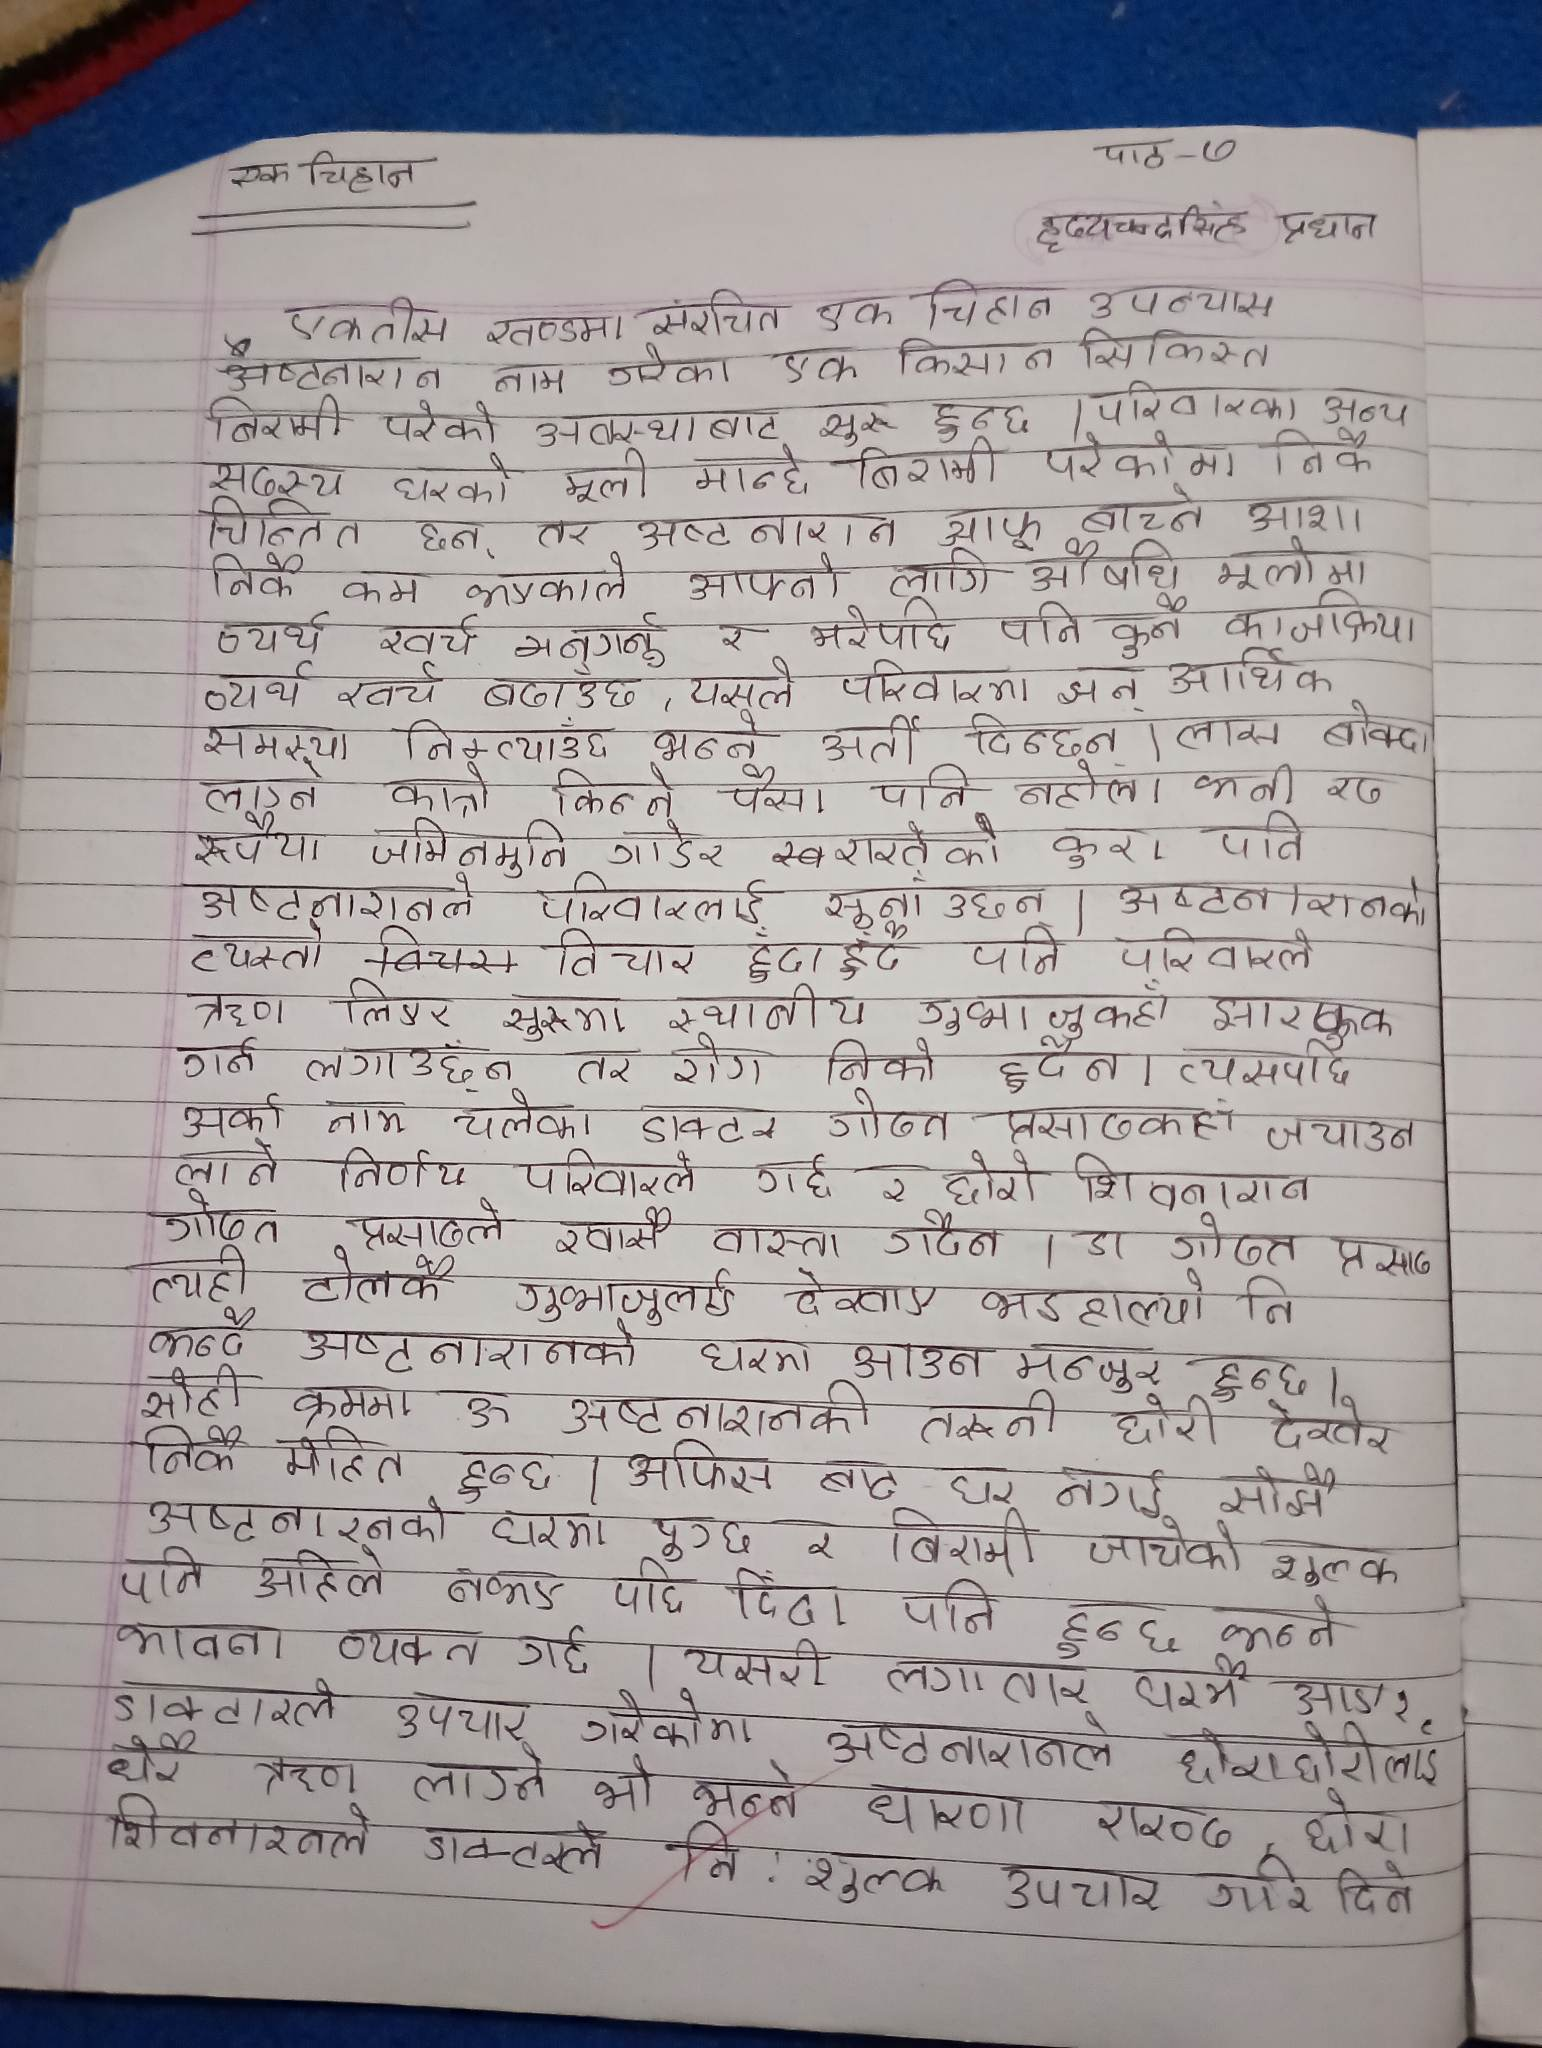text: (105, 1792, 377, 1867), (828, 1708, 1114, 1776), (1165, 1724, 1446, 1787), (305, 1319, 635, 1371), (557, 1379, 871, 1433), (144, 1488, 452, 1541), (1110, 877, 1429, 928), (914, 981, 1181, 1036), (978, 1273, 1213, 1331), (185, 874, 481, 920), (1071, 1156, 1306, 1211), (1032, 201, 1257, 256), (421, 1816, 612, 1880), (990, 1094, 1234, 1143), (996, 1857, 1174, 1923), (535, 877, 769, 928), (104, 1674, 342, 1723), (361, 819, 577, 873), (296, 1039, 517, 1091), (280, 283, 452, 350), (821, 877, 1050, 926), (662, 983, 875, 1033), (883, 1507, 1041, 1574), (800, 1842, 948, 1914), (862, 1779, 1032, 1841), (1087, 377, 1299, 426), (876, 1659, 1095, 1706), (580, 1689, 755, 1747), (507, 1273, 740, 1316), (403, 1739, 552, 1807), (533, 408, 782, 448), (1110, 928, 1317, 976), (1226, 593, 1419, 644), (1207, 989, 1393, 1043), (632, 513, 896, 550), (1040, 436, 1249, 482), (398, 717, 611, 763), (619, 1438, 777, 1498), (1085, 274, 1286, 321), (740, 928, 910, 983), (517, 1146, 696, 1198), (1165, 648, 1344, 699), (1079, 325, 1275, 372), (1216, 534, 1378, 591), (112, 1612, 292, 1663), (343, 1195, 517, 1247), (1169, 1044, 1356, 1091), (1088, 1522, 1242, 1578), (300, 1248, 449, 1307), (784, 1268, 936, 1324), (185, 920, 326, 979), (1092, 1795, 1233, 1855), (837, 661, 1030, 704), (1293, 1789, 1417, 1855), (194, 499, 361, 547), (515, 614, 666, 667), (688, 1753, 807, 1821), (1259, 1535, 1404, 1590), (1267, 1400, 1404, 1459), (146, 1187, 287, 1243), (1254, 1106, 1424, 1153), (1054, 1593, 1181, 1656), (1212, 1596, 1351, 1653), (217, 358, 444, 392), (275, 1430, 410, 1486), (918, 1389, 1061, 1443), (466, 560, 633, 605), (679, 1635, 829, 1685), (382, 1689, 536, 1737), (256, 1544, 390, 1600), (685, 555, 842, 602), (729, 1569, 852, 1629), (836, 826, 1004, 869), (483, 667, 645, 712), (334, 1621, 484, 1669), (807, 605, 957, 654), (894, 335, 1061, 379), (824, 1090, 952, 1146), (1012, 1341, 1166, 1387), (193, 657, 316, 716), (549, 929, 696, 978), (193, 813, 322, 868), (965, 714, 1122, 759), (201, 395, 347, 444), (1016, 763, 1165, 809), (650, 283, 789, 334), (1315, 1229, 1438, 1285), (1166, 1214, 1293, 1269), (671, 1821, 750, 1909), (1022, 547, 1186, 589), (1129, 1656, 1250, 1713), (920, 275, 1061, 324), (450, 1093, 591, 1141), (637, 1099, 782, 1146), (306, 146, 442, 196), (849, 448, 1004, 492), (1208, 1860, 1315, 1923), (543, 767, 672, 819), (389, 455, 513, 508), (441, 1559, 569, 1611), (497, 991, 630, 1039), (998, 1041, 1126, 1091), (1215, 1467, 1335, 1520), (888, 1209, 1007, 1263), (936, 1148, 1043, 1208), (1320, 703, 1427, 763), (458, 1441, 557, 1506), (194, 761, 326, 809), (130, 1425, 251, 1477), (1276, 198, 1383, 256), (897, 1578, 1004, 1637), (1200, 813, 1317, 866), (202, 717, 350, 759), (146, 1305, 254, 1362), (551, 1206, 672, 1256), (133, 1247, 249, 1298), (1330, 1863, 1430, 1923), (692, 452, 815, 500), (1058, 1464, 1166, 1519), (337, 979, 455, 1030), (811, 712, 922, 766), (1262, 427, 1378, 478), (1076, 491, 1208, 534), (1280, 1674, 1408, 1719), (376, 400, 504, 445), (141, 1366, 246, 1421), (711, 1219, 842, 1263), (684, 659, 797, 709), (334, 1145, 463, 1188), (290, 1383, 415, 1428), (721, 766, 829, 818), (850, 1337, 995, 1376), (491, 1506, 609, 1553), (696, 1331, 815, 1378), (1116, 1396, 1213, 1452), (206, 457, 345, 495), (1051, 822, 1166, 869), (868, 767, 982, 814), (606, 827, 727, 871), (961, 928, 1067, 976), (1237, 492, 1365, 533), (381, 767, 491, 814), (170, 1140, 283, 1185), (99, 1731, 198, 1782), (214, 609, 330, 652), (826, 1039, 935, 1086), (607, 348, 732, 389), (207, 550, 308, 601), (180, 986, 295, 1030), (645, 1511, 750, 1557), (118, 1546, 202, 1604), (609, 1559, 688, 1621), (811, 1452, 909, 1502), (1216, 1349, 1314, 1399), (671, 1035, 765, 1086), (513, 1617, 594, 1677), (556, 457, 654, 505), (650, 716, 758, 759), (376, 614, 483, 657), (1058, 662, 1156, 709), (888, 554, 990, 599), (246, 1752, 360, 1792), (335, 667, 439, 711), (180, 1094, 287, 1137), (1191, 766, 1301, 806), (925, 398, 1030, 440), (1176, 711, 1280, 753), (590, 1750, 658, 1813), (484, 317, 628, 346), (1315, 380, 1408, 426), (943, 504, 1038, 547), (175, 1036, 261, 1085), (771, 342, 863, 385), (815, 397, 902, 442), (755, 1154, 836, 1201), (810, 288, 896, 332), (995, 605, 1085, 646), (939, 1464, 1025, 1506), (1108, 597, 1191, 641), (790, 1514, 854, 1569), (1088, 133, 1173, 173), (339, 563, 420, 605), (441, 1386, 513, 1431), (1242, 1273, 1306, 1324), (322, 1099, 410, 1137), (1191, 133, 1263, 176), (222, 155, 298, 194), (562, 1047, 641, 1085), (1084, 1217, 1139, 1269), (489, 363, 572, 397), (411, 515, 483, 554), (1325, 767, 1388, 805), (530, 516, 593, 549), (714, 615, 765, 656), (876, 1158, 914, 1208)
